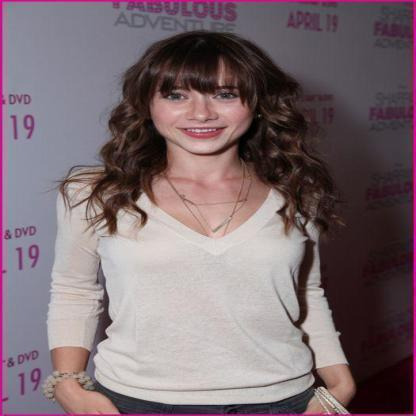long-hair: (82, 155, 328, 198)
